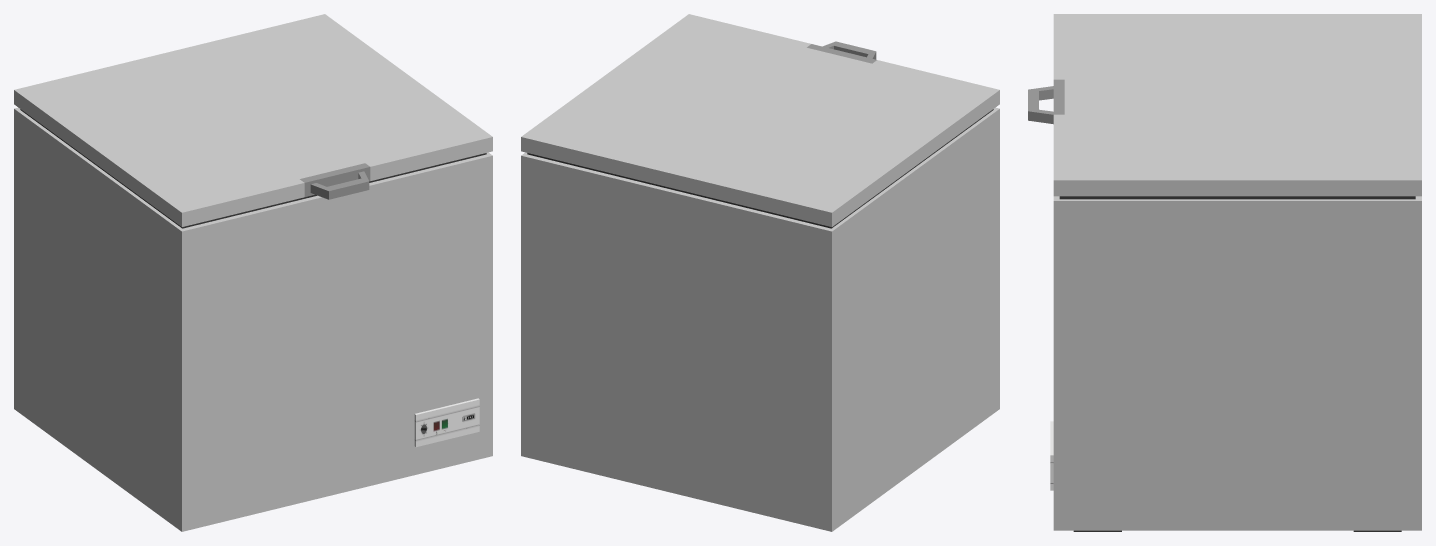
Rendered from sh-scopia-chest-freezer.glb.
3 renders of one model, left to right at view 1: azimuth 30°, elevation 25°; view 2: azimuth 150°, elevation 25°; view 3: azimuth 270°, elevation 25°, orthographic. The views are drawn at different scales.
Visible parts, largest first — view 1: Cube_Cube.001, Cube.003, Cube.002_Cube.000; view 2: Cube_Cube.001, Cube.002_Cube.000; view 3: Cube_Cube.001, Cube.002_Cube.000.
Boxes of the visible parts, x1,y1,x2,y2 form: Cube_Cube.001: (14, 14, 492, 531); Cube.003: (414, 398, 479, 447); Cube.002_Cube.000: (20, 109, 486, 228); Cube_Cube.001: (521, 14, 999, 531); Cube.002_Cube.000: (527, 109, 993, 228); Cube_Cube.001: (1028, 14, 1421, 530); Cube.002_Cube.000: (1059, 196, 1415, 531).
Size of the model in its own units: 1 by 1 by 1.
4 materials, 1 textured.
